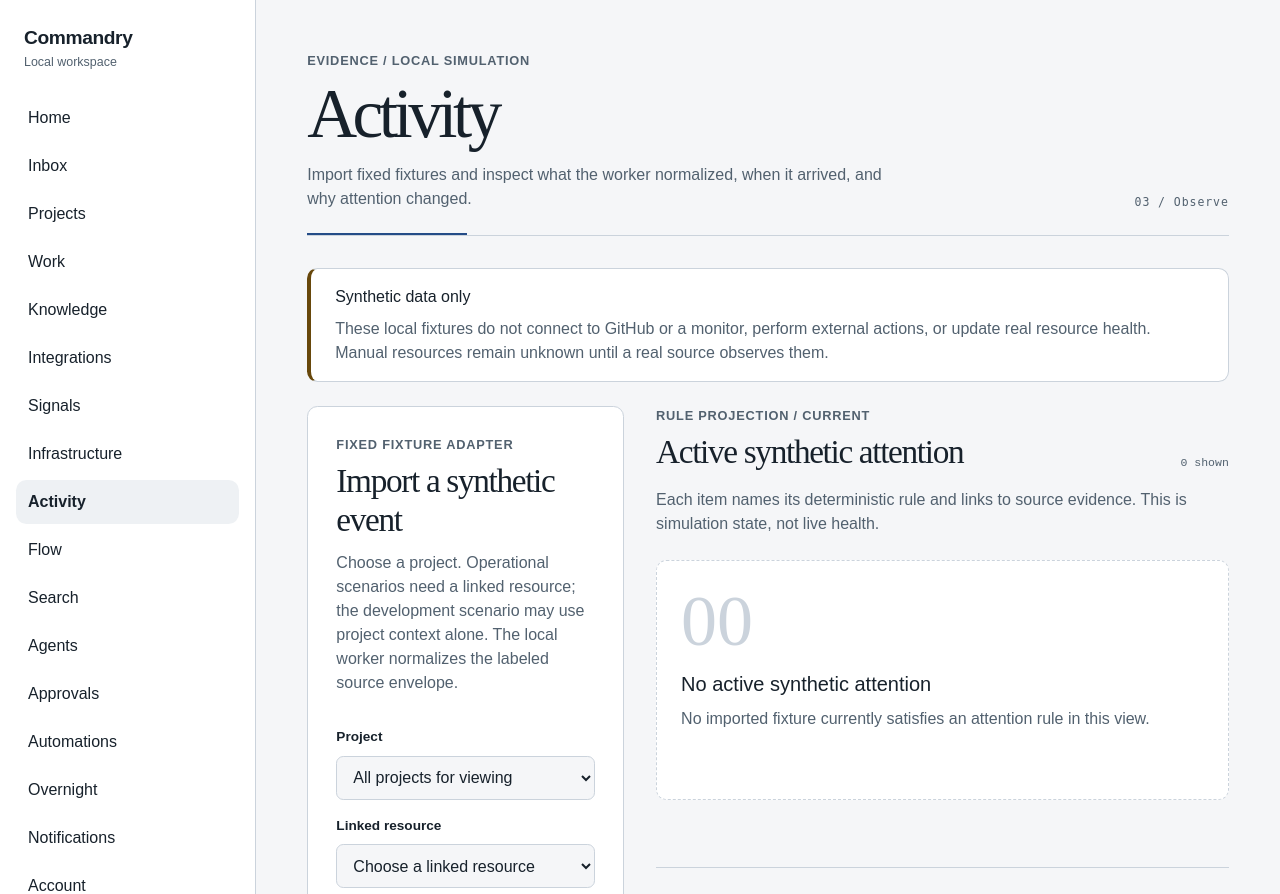
Test: Synthetic activity workspace › imports a project-scoped development fixture and shows the queued source receipt
Step 1. Select "Harbor notes" in the dropdown labelled "Project" → (466, 778), box [336, 756, 595, 800]
(page scrolled)
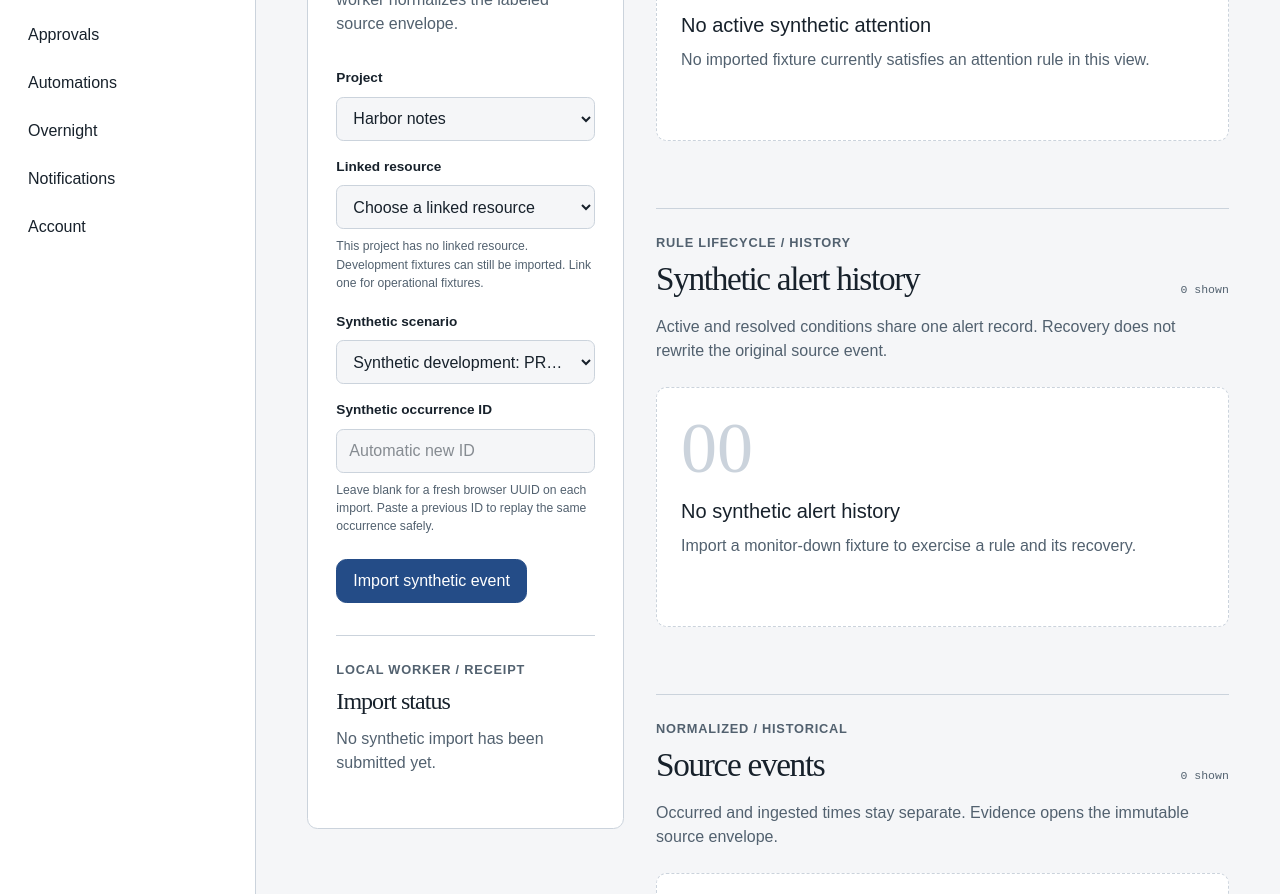
Check: the text "Development fixtures can still be imported" is shown, box [336, 239, 565, 272]
Step 2. Type "local-test-pr-001" into the field labelled "Synthetic occurrence ID" → (466, 451), box [336, 429, 595, 473]
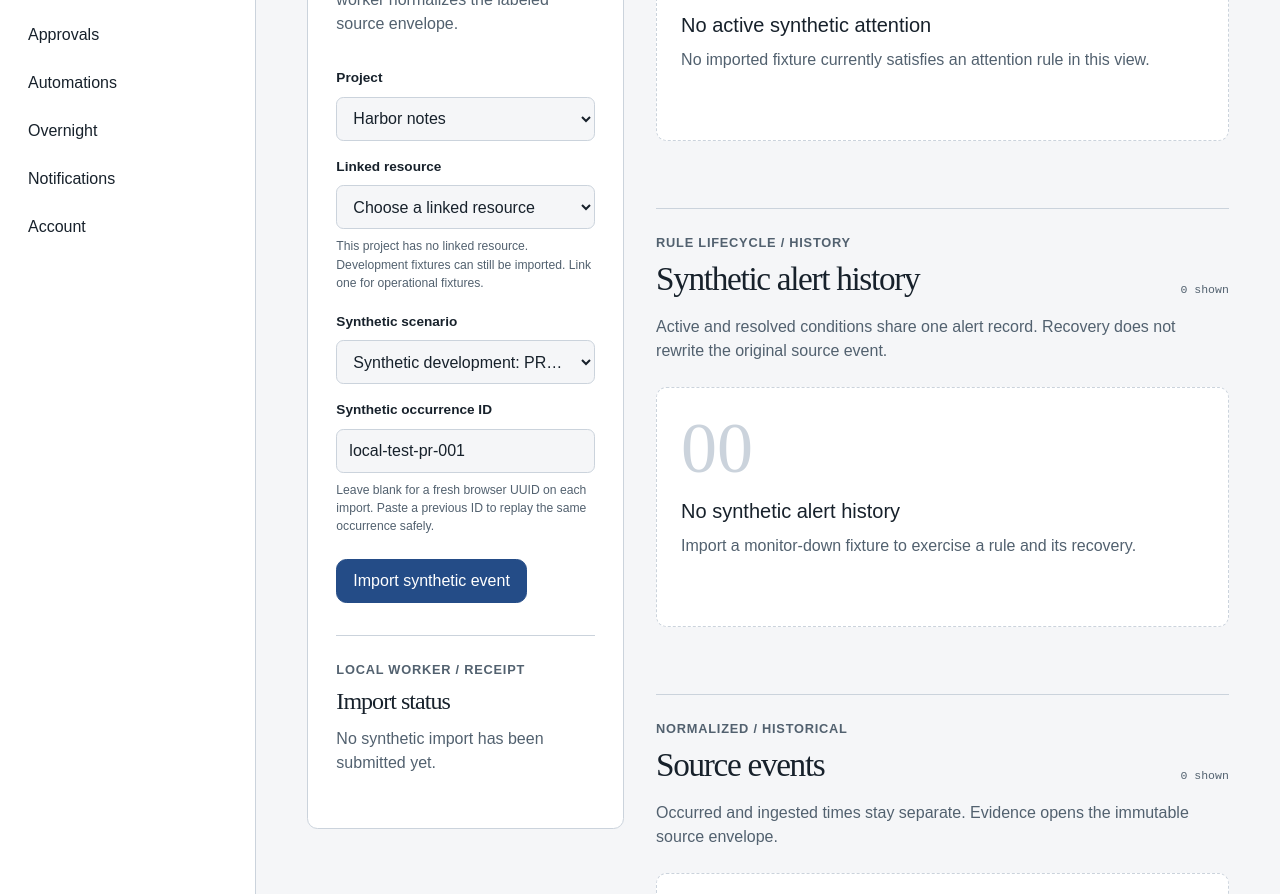
Check: the button "Import synthetic event" is enabled, box [336, 560, 527, 604]
Step 3. Submit the form named "Import synthetic event", box [336, 60, 595, 604]
(page scrolled)
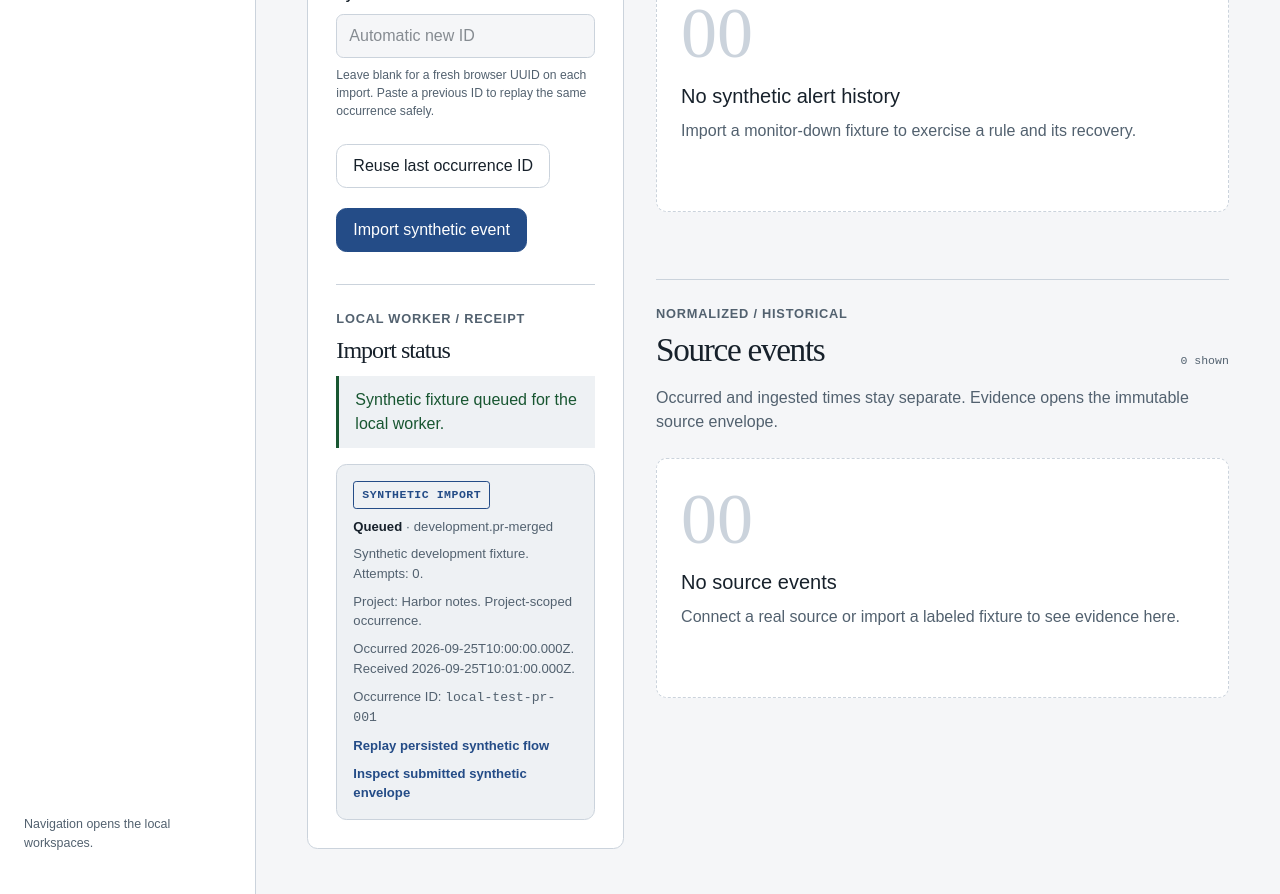
Check: the text "Synthetic fixture queued for the local worker." is shown, box [336, 376, 595, 448]
Check: the element "Import status" shows "queued", box [353, 519, 402, 534]
